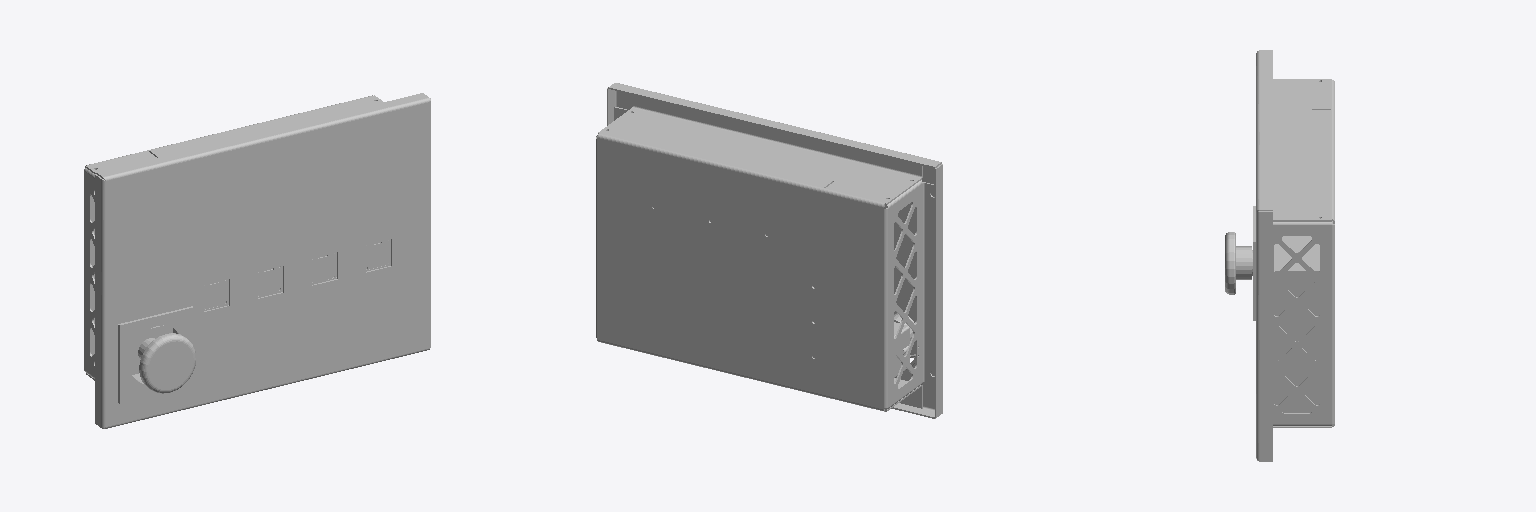
Rendered from composite_part_1.obj.
3 renders of one model, left to right at view 1: azimuth 30°, elevation 25°; view 2: azimuth 150°, elevation 25°; view 3: azimuth 270°, elevation 25°, orthographic.
Visible parts, largest first — view 1: obj_[number redacted]; view 2: obj_[number redacted]; view 3: obj_[number redacted].
Part boxes in pixels (x1,y1,x2,y2): obj_[number redacted]: (84,93,430,428); obj_[number redacted]: (596,83,942,418); obj_[number redacted]: (1225,50,1334,461).
Size of the model in its own units: 0.3532 by 0.2582 by 0.1022.